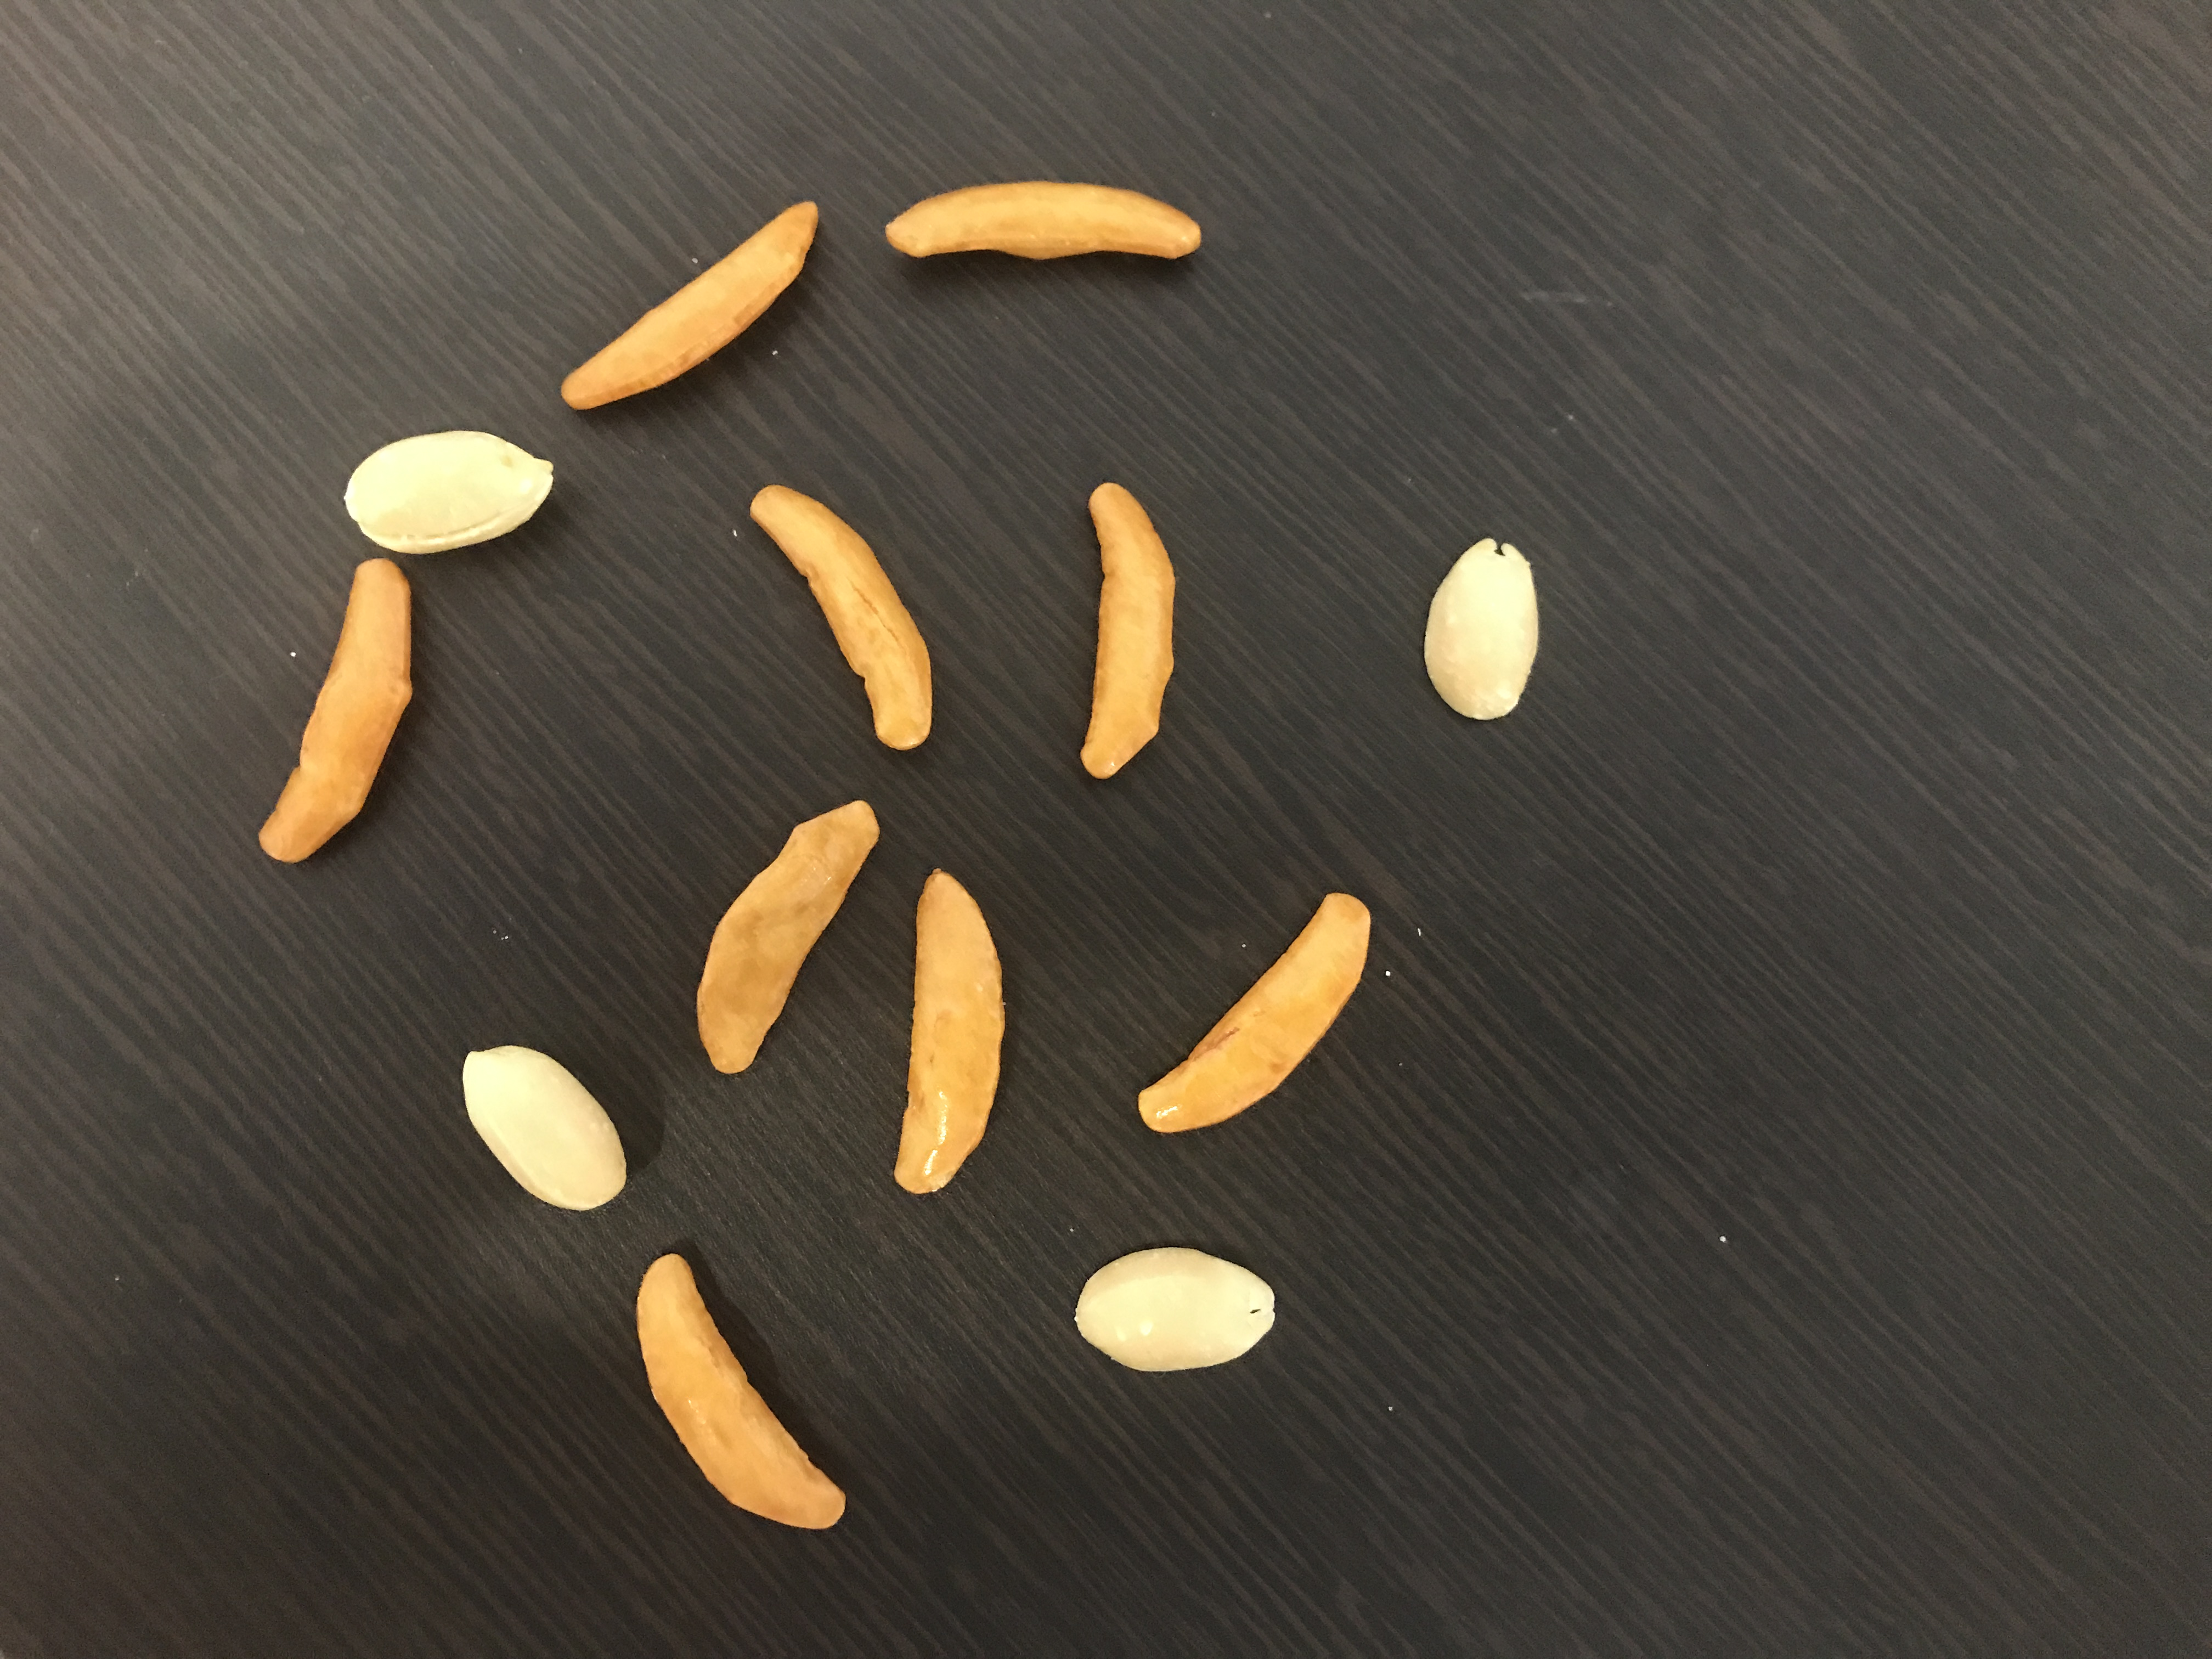peanut: (1054, 1234, 1285, 1378), (453, 1035, 631, 1220), (333, 420, 568, 558), (1407, 533, 1555, 728)
